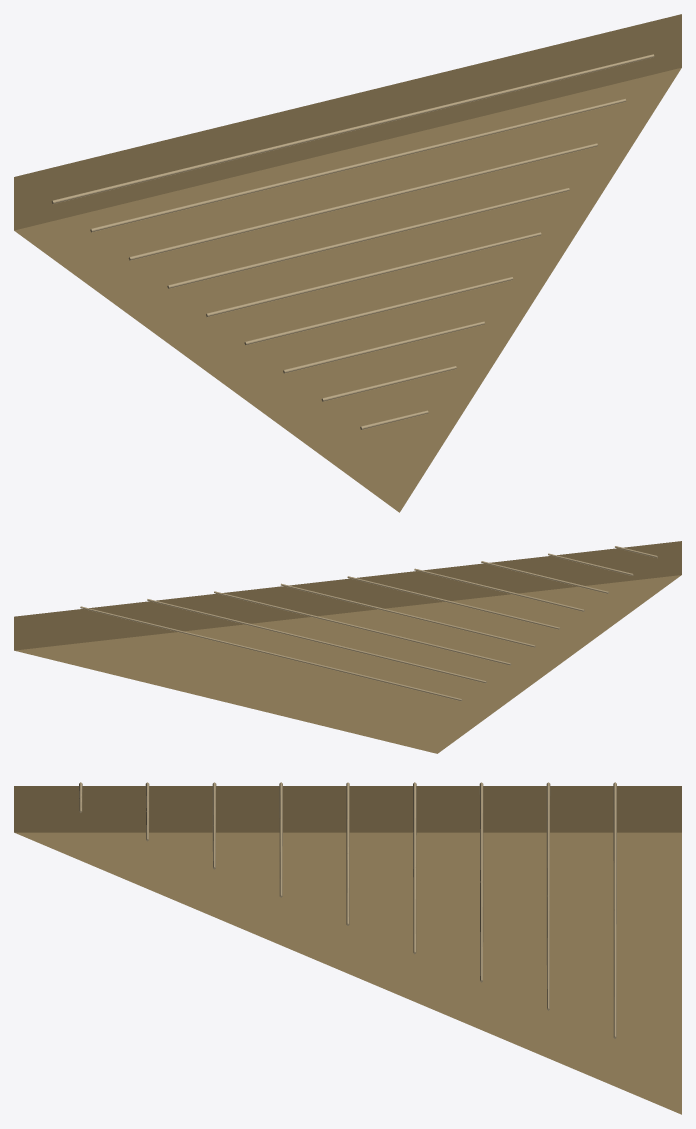
File: Roof_Triangle.glb
The picture shows the model from 3 angles, top to bottom: view 1: azimuth 30°, elevation 25°; view 2: azimuth 150°, elevation 25°; view 3: azimuth 270°, elevation 25°; orthographic projection. The views are drawn at different scales.
Parts seen in each view (by area): view 1: _MeshInstance3D_3710, _MeshInstance3D_3711, _MeshInstance3D_3714, _MeshInstance3D_3715, _MeshInstance3D_3716, _MeshInstance3D_3717, _MeshInstance3D_3718, _MeshInstance3D_3719, _MeshInstance3D_3720; view 2: _MeshInstance3D_3710, _MeshInstance3D_3712, _MeshInstance3D_3714, _MeshInstance3D_3715, _MeshInstance3D_3716, _MeshInstance3D_3717, _MeshInstance3D_3718, _MeshInstance3D_3719, _MeshInstance3D_3720; view 3: _MeshInstance3D_3710, _MeshInstance3D_3713, _MeshInstance3D_3714, _MeshInstance3D_3715, _MeshInstance3D_3716, _MeshInstance3D_3717, _MeshInstance3D_3718.
Boxes of the visible parts, x1,y1,x2,y2 form: _MeshInstance3D_3710: [14, 67, 681, 512]; _MeshInstance3D_3711: [14, 14, 681, 230]; _MeshInstance3D_3714: [51, 54, 654, 204]; _MeshInstance3D_3715: [90, 98, 626, 232]; _MeshInstance3D_3716: [128, 143, 597, 260]; _MeshInstance3D_3717: [167, 188, 569, 288]; _MeshInstance3D_3718: [206, 232, 541, 316]; _MeshInstance3D_3719: [244, 277, 513, 345]; _MeshInstance3D_3720: [283, 321, 484, 373]; _MeshInstance3D_3710: [15, 575, 681, 753]; _MeshInstance3D_3712: [14, 541, 681, 650]; _MeshInstance3D_3714: [80, 606, 462, 701]; _MeshInstance3D_3715: [147, 599, 486, 683]; _MeshInstance3D_3716: [214, 591, 511, 665]; _MeshInstance3D_3717: [281, 583, 535, 647]; _MeshInstance3D_3718: [347, 576, 560, 629]; _MeshInstance3D_3719: [414, 568, 584, 611]; _MeshInstance3D_3720: [481, 561, 608, 593]; _MeshInstance3D_3710: [15, 832, 681, 1114]; _MeshInstance3D_3713: [14, 786, 681, 832]; _MeshInstance3D_3714: [613, 782, 616, 1038]; _MeshInstance3D_3715: [546, 782, 550, 1010]; _MeshInstance3D_3716: [479, 782, 483, 982]; _MeshInstance3D_3717: [413, 782, 416, 954]; _MeshInstance3D_3718: [346, 782, 349, 925].
Bounding box in the file's own units: 3 × 0.25 × 3.
